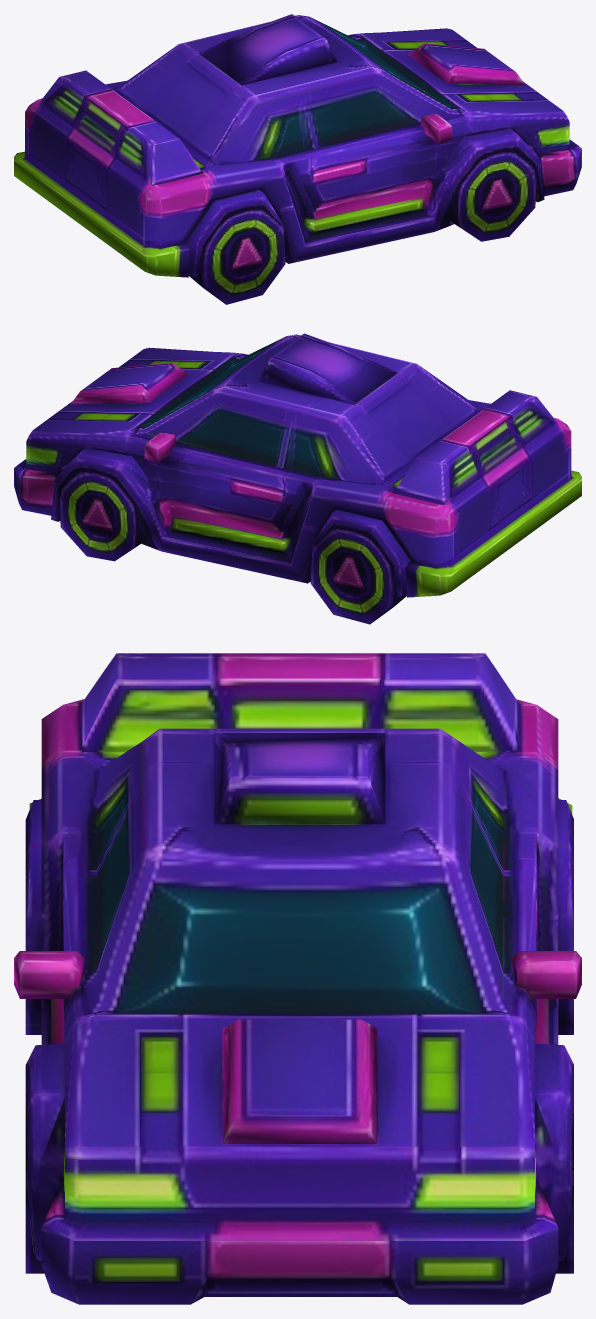
The model's file is car_01.glb.
3 views of the same model, one above another, from view 1: azimuth 30°, elevation 25°; view 2: azimuth 150°, elevation 25°; view 3: azimuth 270°, elevation 25° (orthographic). The views are drawn at different scales.
Visible parts, largest first — view 1: tripo_node_b2a5bd7f-f040-40db-913c-38a7c43f1f42; view 2: tripo_node_b2a5bd7f-f040-40db-913c-38a7c43f1f42; view 3: tripo_node_b2a5bd7f-f040-40db-913c-38a7c43f1f42.
Part boxes in pixels (x1=…): tripo_node_b2a5bd7f-f040-40db-913c-38a7c43f1f42: x1=14, y1=14, x2=581, y2=304; tripo_node_b2a5bd7f-f040-40db-913c-38a7c43f1f42: x1=14, y1=333, x2=581, y2=624; tripo_node_b2a5bd7f-f040-40db-913c-38a7c43f1f42: x1=14, y1=653, x2=581, y2=1304.
Bounding box in the file's own units: 0.998 × 0.4082 × 0.5645.
Materials: 1 (1 with a texture image).
